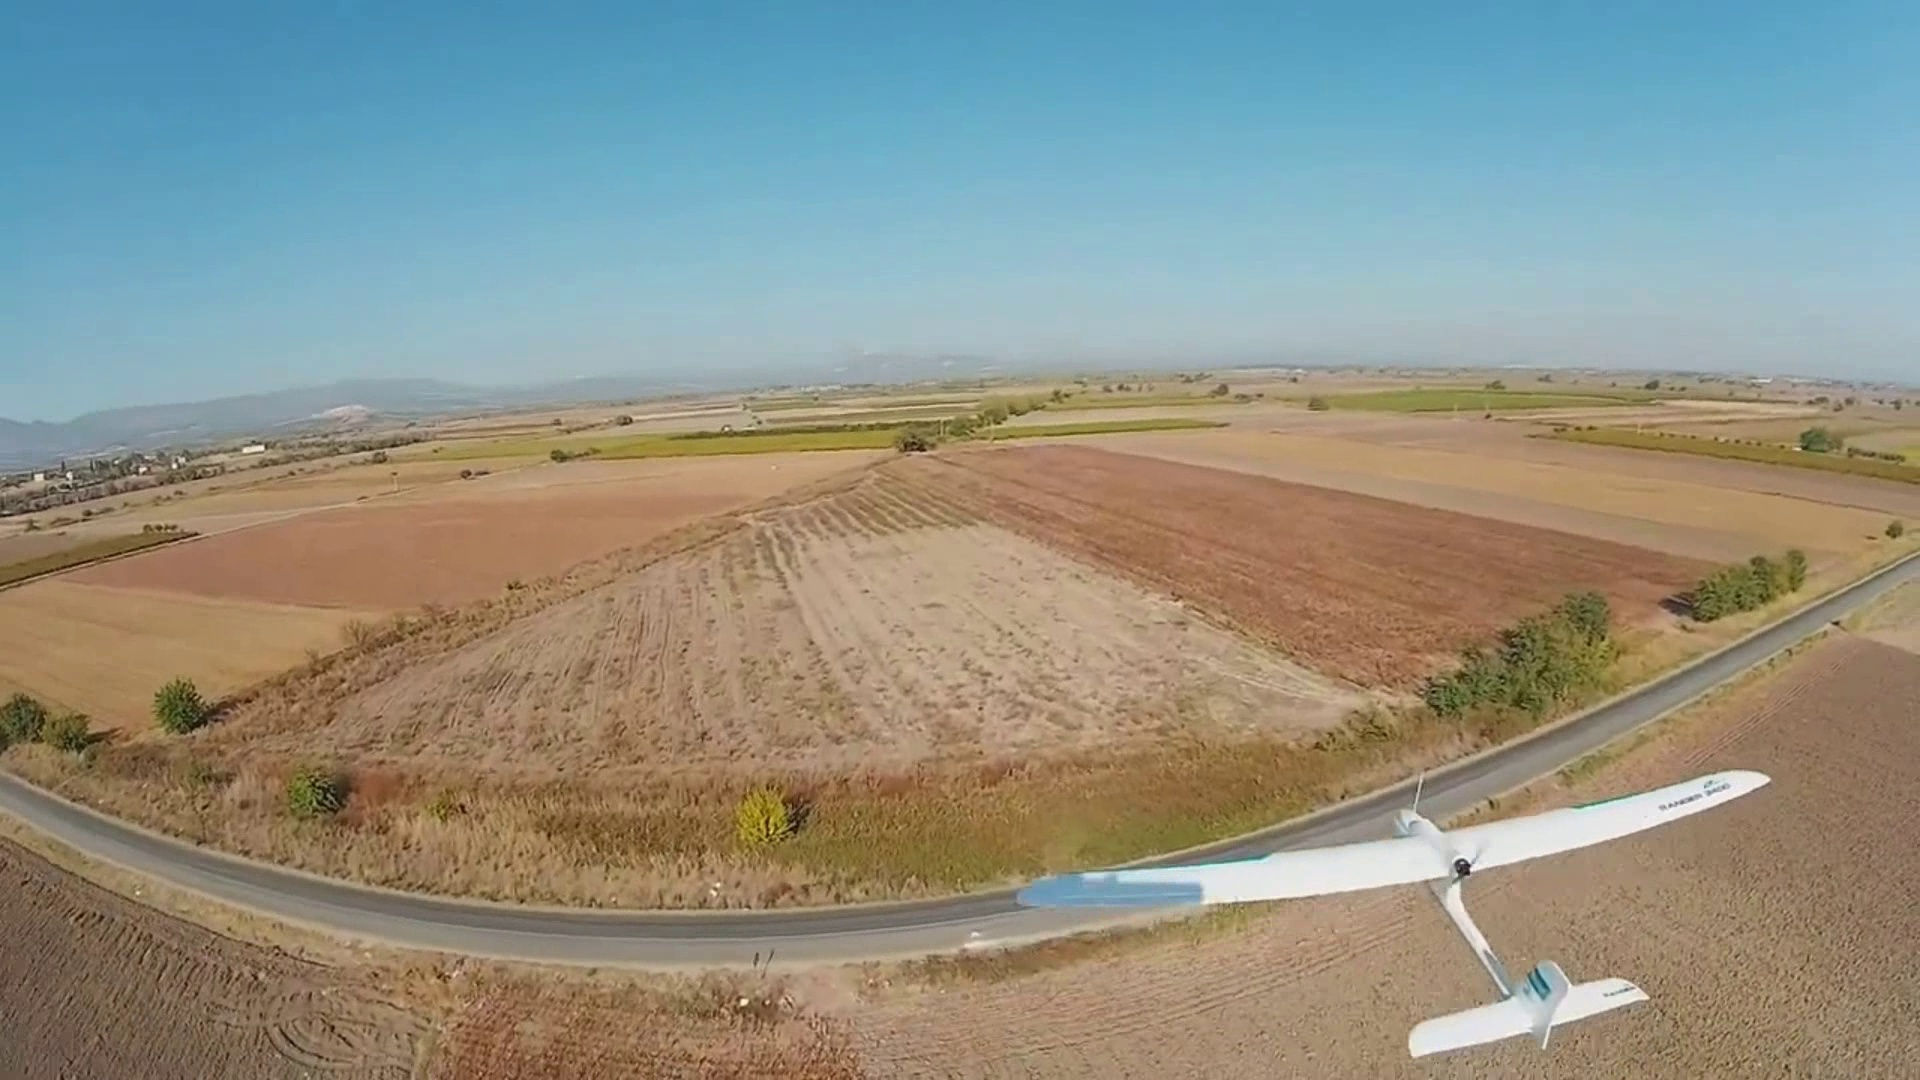airplane: (98, 527, 1913, 1055)
